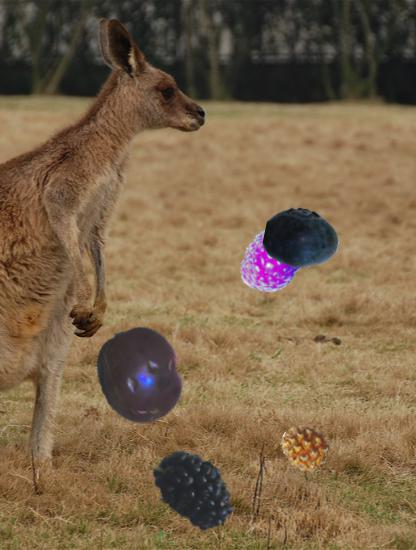Blueberry: (264, 201, 340, 277)
Mulberry: (141, 432, 243, 534)
Passion: (91, 327, 190, 426)
Pineapple: (280, 422, 331, 473)
Raspberry: (236, 224, 308, 296)
